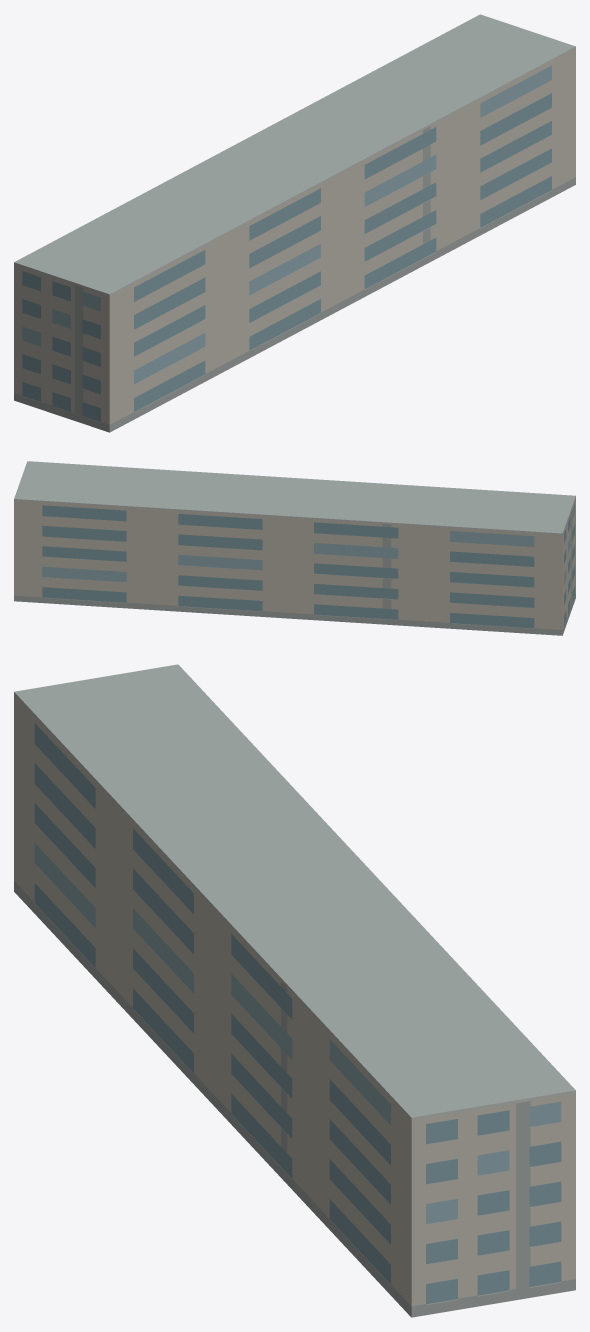
The model's file is residential-f3c10c8c-bee8-4c2c-a869-219633febeb6.glb.
3 renders of one model, top to bottom at view 1: azimuth 30°, elevation 25°; view 2: azimuth 150°, elevation 25°; view 3: azimuth 270°, elevation 25°, orthographic. The views are drawn at different scales.
Parts seen in each view (by area): view 1: residential-f3c10c8c-bee8-4c2c-a869-219633febeb6.tmp; view 2: residential-f3c10c8c-bee8-4c2c-a869-219633febeb6.tmp; view 3: residential-f3c10c8c-bee8-4c2c-a869-219633febeb6.tmp.
Boxes of the visible parts, left/top/right/bottom form: residential-f3c10c8c-bee8-4c2c-a869-219633febeb6.tmp: left=14, top=14, right=575, bottom=432; residential-f3c10c8c-bee8-4c2c-a869-219633febeb6.tmp: left=14, top=461, right=575, bottom=635; residential-f3c10c8c-bee8-4c2c-a869-219633febeb6.tmp: left=14, top=664, right=575, bottom=1317.
Bounding box in the file's own units: 74.17 × 15.25 × 38.85.
